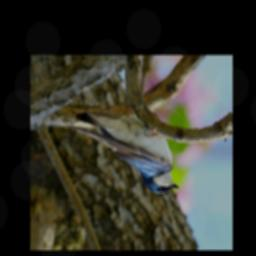Swallow: (65, 100, 179, 196)
